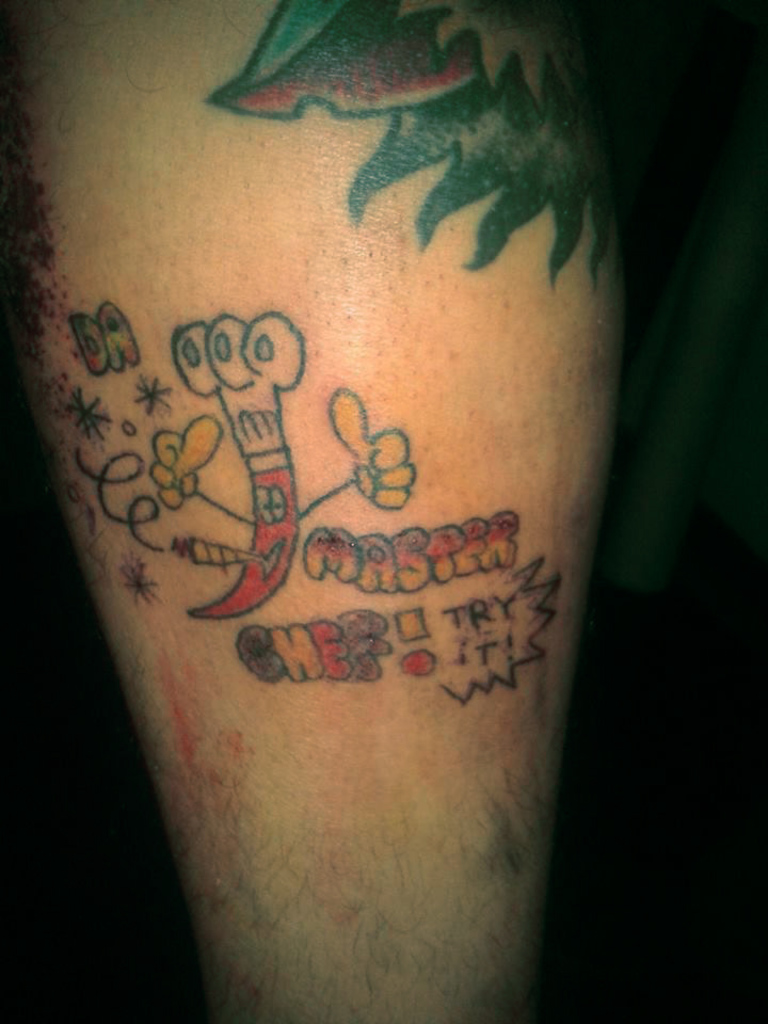Person: (0, 0, 628, 1024)
